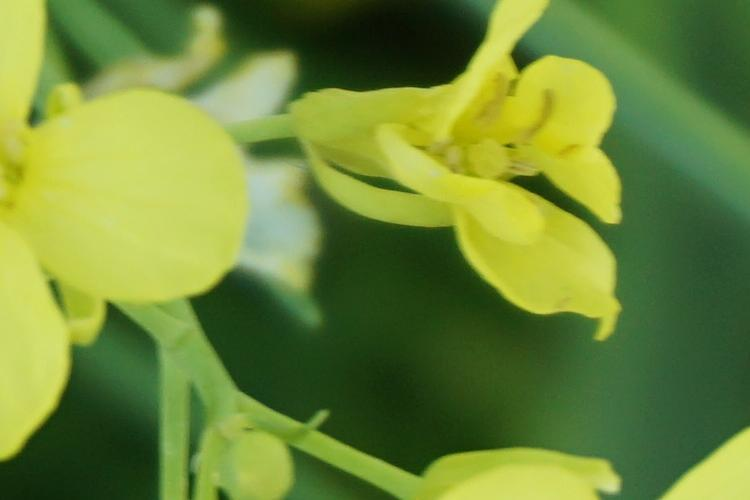yellow: (292, 10, 663, 349), (394, 424, 621, 500)
